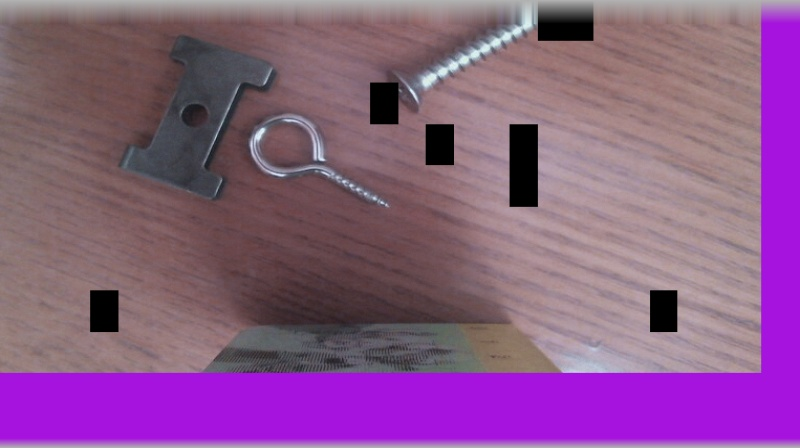O001: (247, 109, 394, 210)
O002: (116, 31, 279, 202)
S001: (385, 5, 554, 115)
